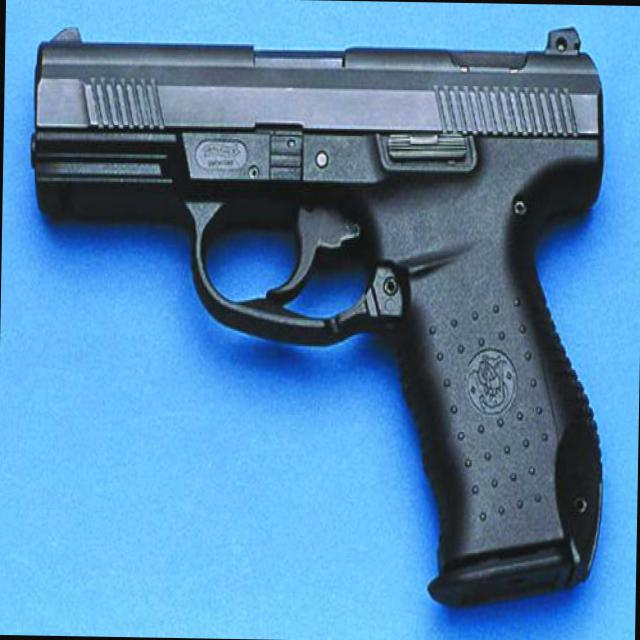handgun: (24, 19, 612, 605)
